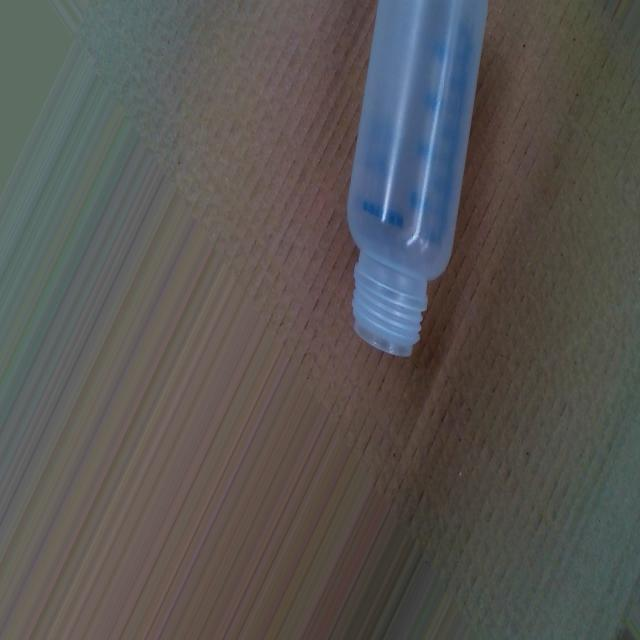bottle: (340, 2, 496, 357)
